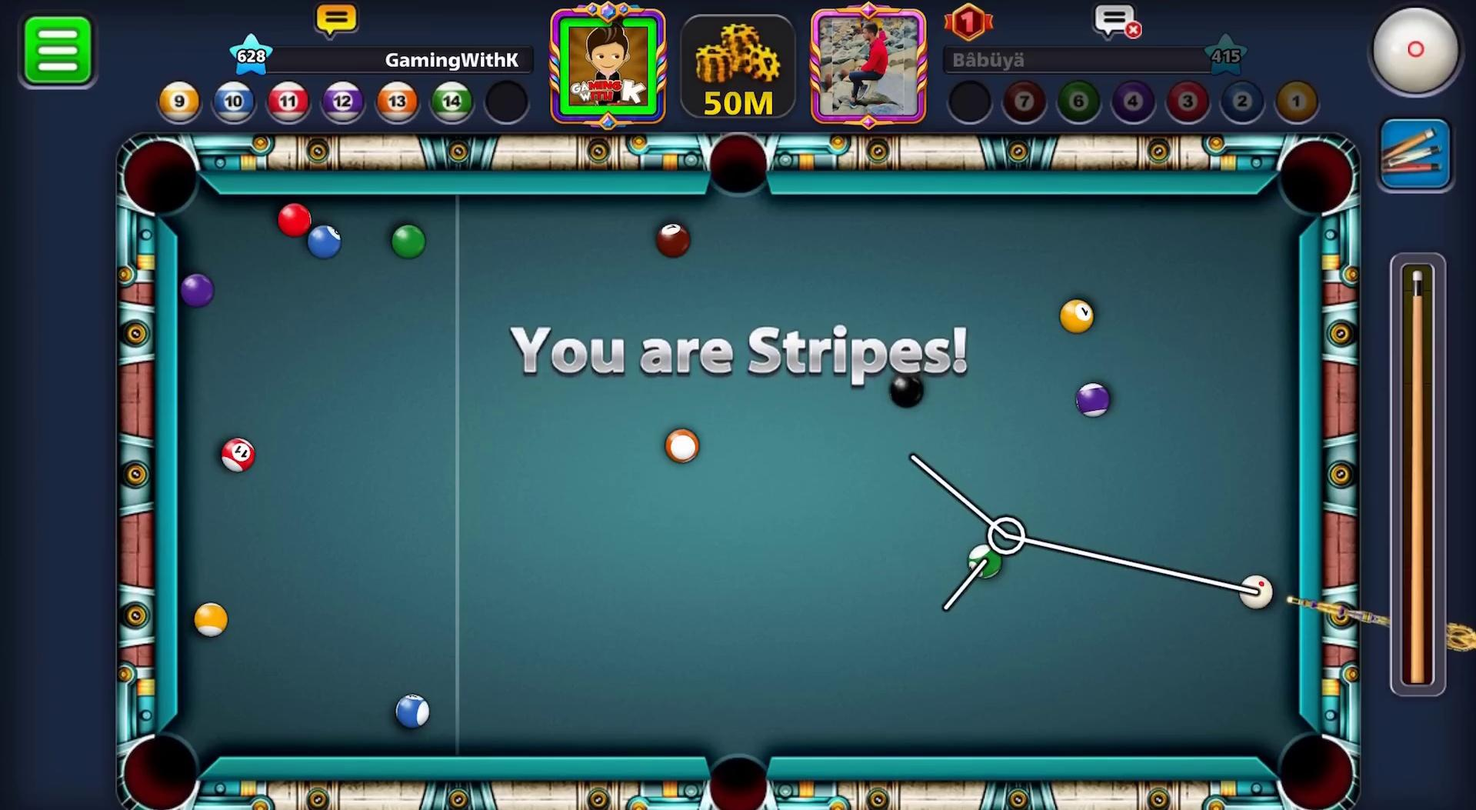Ball: (1066, 380, 1120, 429), (1055, 295, 1102, 342), (298, 221, 345, 268), (646, 218, 696, 261), (958, 540, 1006, 582), (176, 266, 217, 313), (885, 368, 926, 412), (661, 425, 702, 464), (191, 599, 229, 639), (278, 193, 312, 237), (218, 433, 255, 472), (392, 692, 429, 731), (388, 223, 425, 260)
Force: (1386, 251, 1454, 700)
Guideline: (893, 445, 1258, 619)
Hole: (111, 122, 220, 232), (102, 719, 220, 809), (1259, 711, 1364, 809), (1270, 125, 1361, 232), (692, 121, 784, 214), (691, 739, 783, 809)
Play_Area: (172, 193, 1292, 759)
Spin: (1355, 0, 1474, 114)
White: (1235, 571, 1281, 616)
